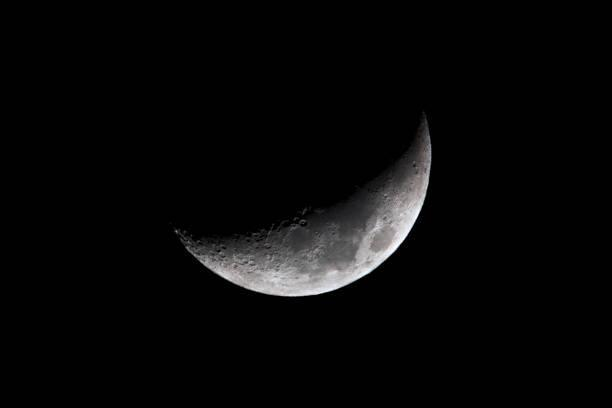moon: (141, 37, 437, 298)
